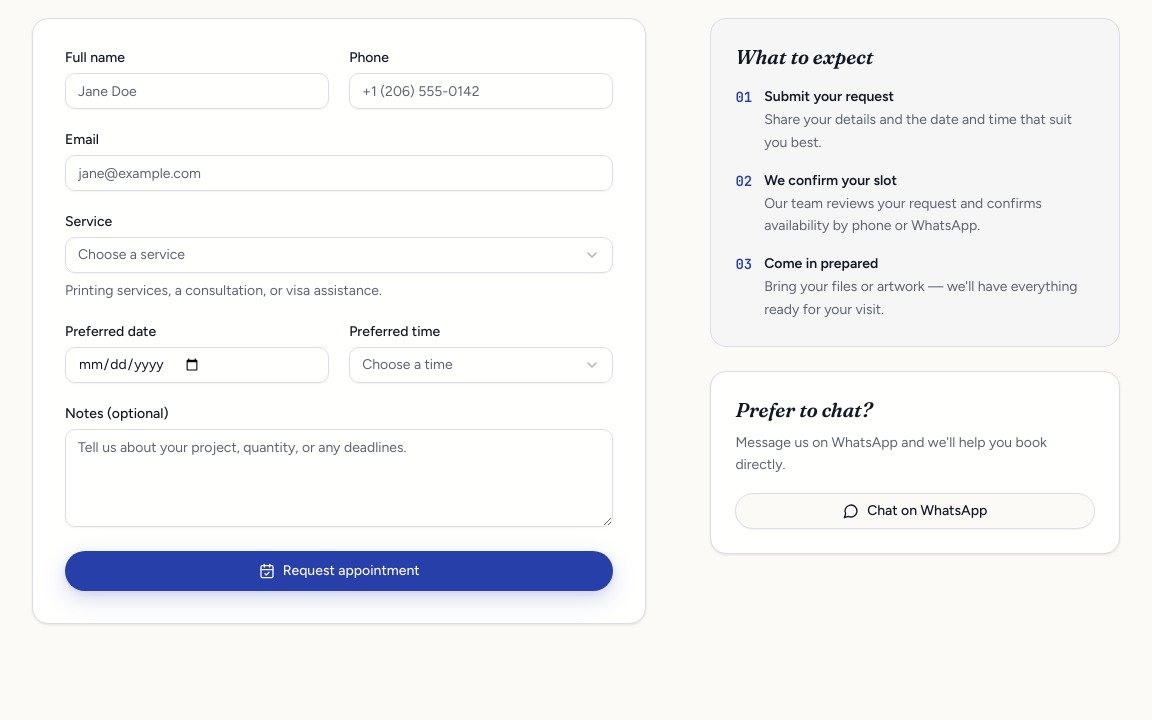
AppointmentsPage › shows validation errors when the form is submitted empty
(page scrolled)
Step 1. Click the button "Request appointment" → [339, 571], box [65,551,613,591]
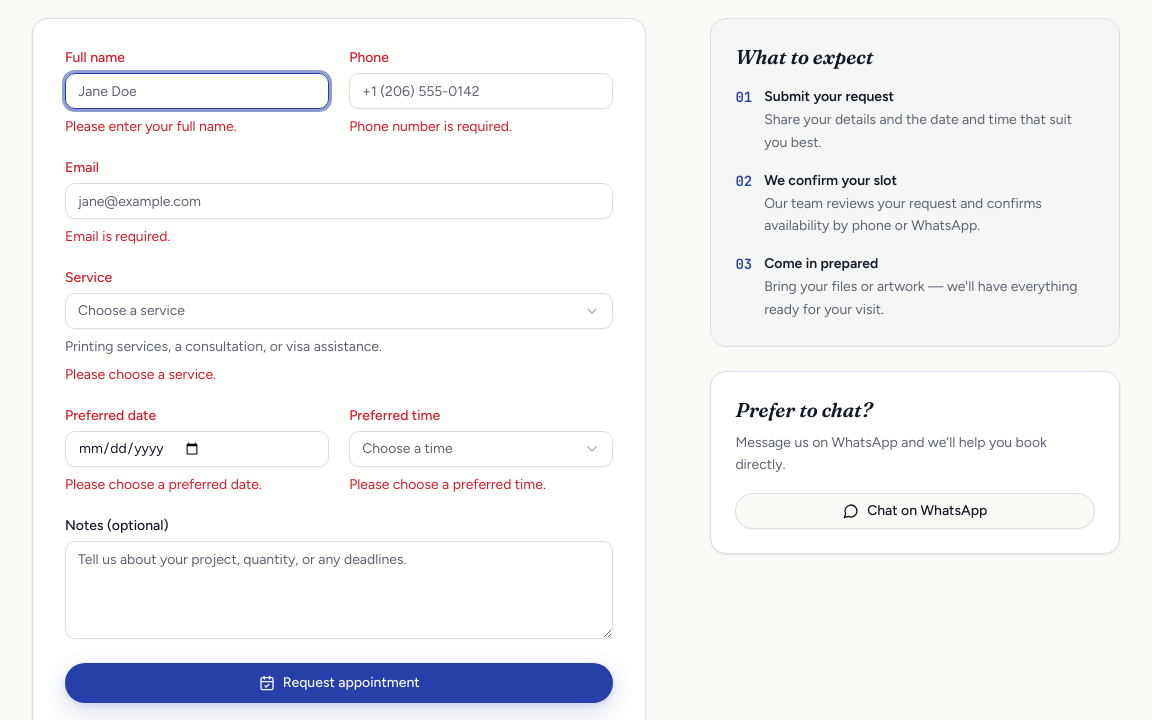
Now the text "Please enter your full name." is shown, box [65,118,236,135]
Now the text "Phone number is required." is shown, box [349,118,512,135]
Now the text "Email is required." is shown, box [65,228,170,245]
